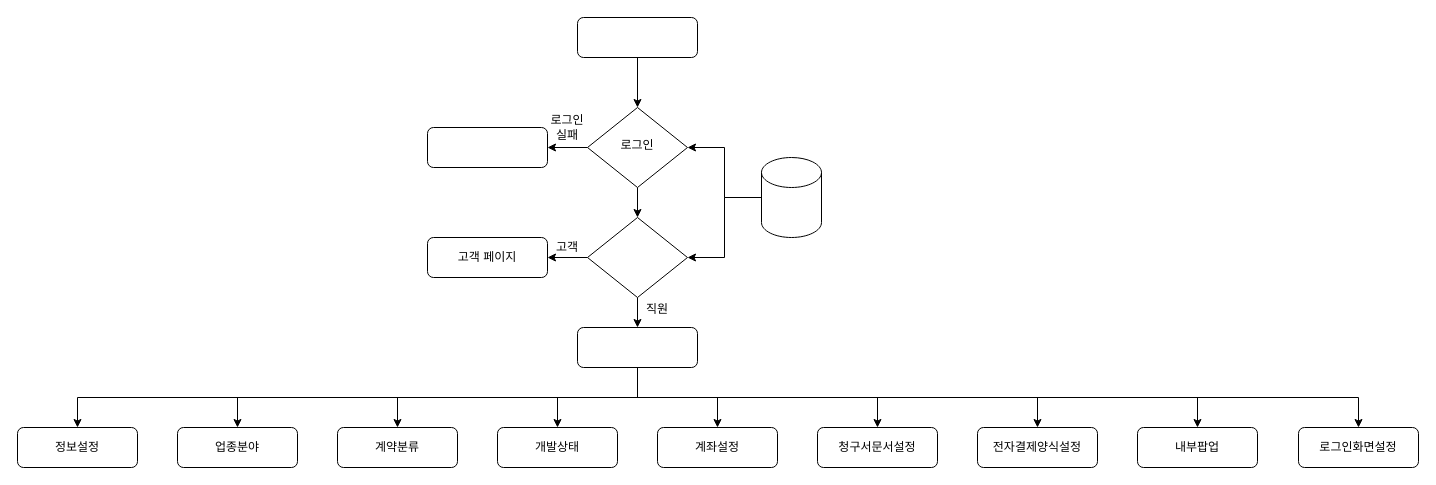
Image size: 1436x485. Some labels were removed from this diagram. Each missing label, with the box of its shape:
로그인 실패 알림: (426, 126, 548, 168)
사이트 접근 (start): (576, 16, 698, 58)
설정: (576, 326, 698, 368)
직원 or 고객: (586, 216, 688, 298)
회원DB: (760, 156, 822, 238)
